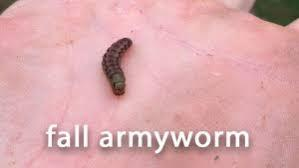fallarmy_worm: (99, 33, 136, 98)
